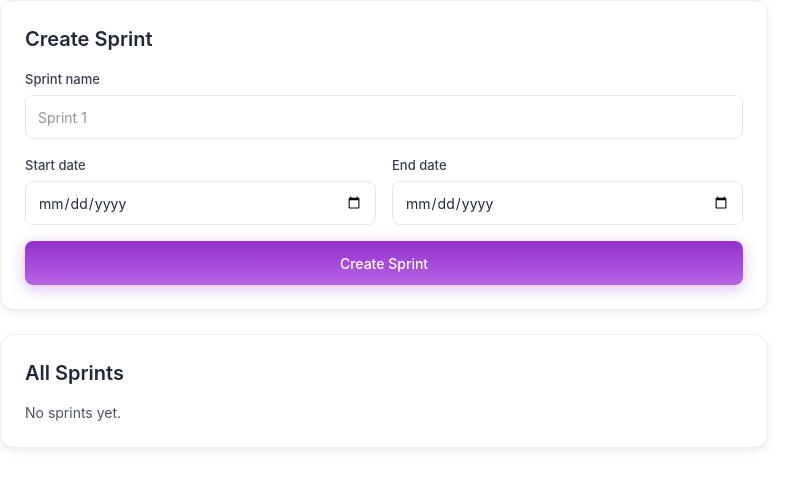
it: SprintManagementTab › shows a form error when creation rejects
Type "Sprint C" into the field with placeholder "Sprint 1" at x=384, y=117, box [25,95,743,139]
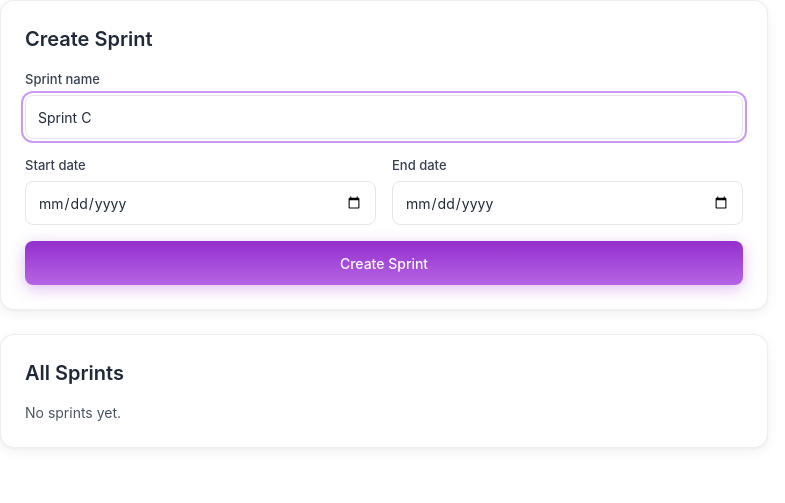
Click the button "Create Sprint" at x=384, y=263, box [25,241,743,285]
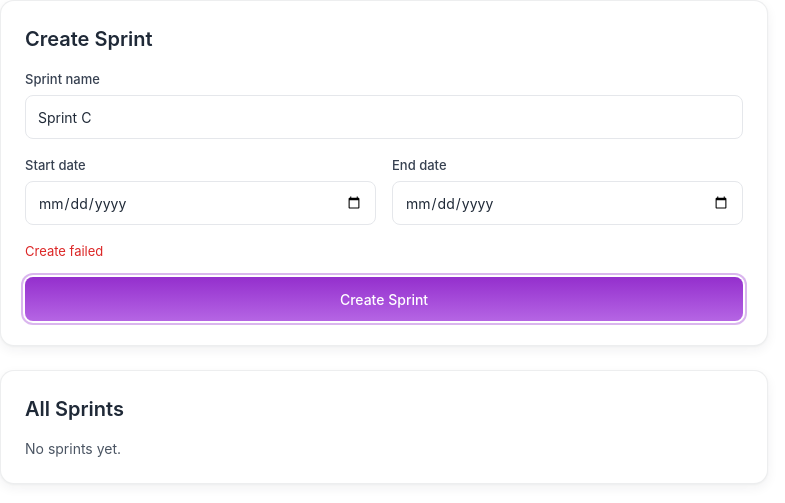
Result: the text "Create failed" is shown at [25,243,103,259]
